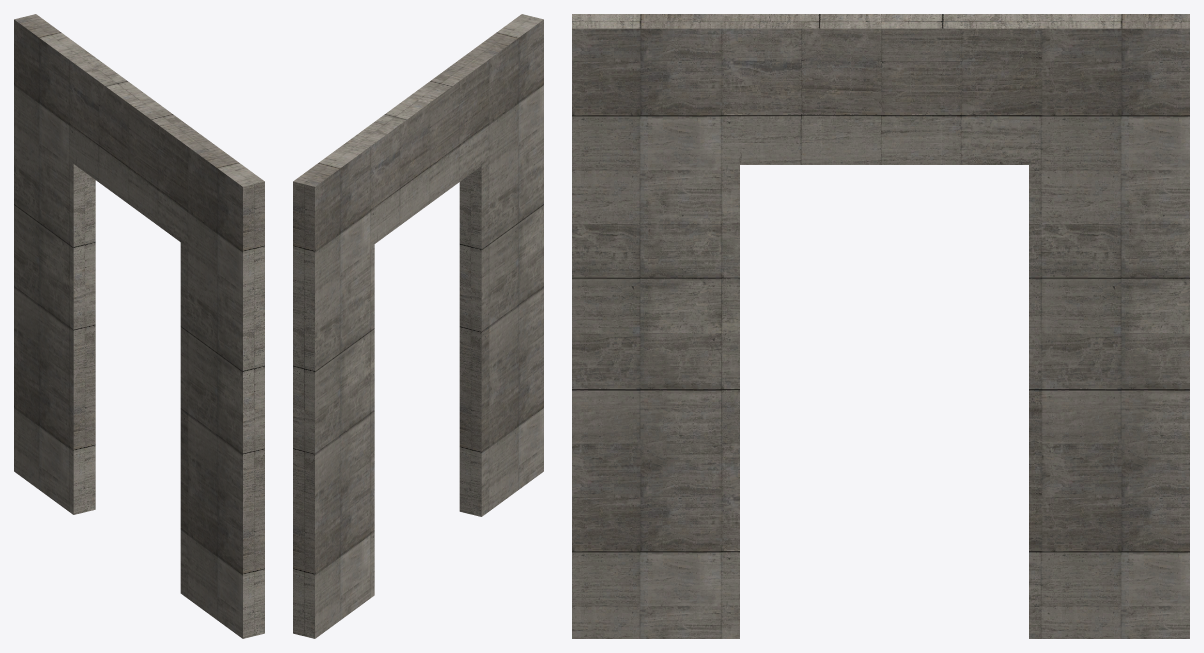
Rendered from soupdoorwall040.glb.
3 views of the same model, side by side, from view 1: azimuth 30°, elevation 25°; view 2: azimuth 150°, elevation 25°; view 3: azimuth 270°, elevation 25° (orthographic). The views are drawn at different scales.
Visible parts, largest first — view 1: soupdoorwall040_high_1; view 2: soupdoorwall040_high_1; view 3: soupdoorwall040_high_1.
Boxes of the visible parts, <box> form: soupdoorwall040_high_1: <box>14,14,264,638</box>; soupdoorwall040_high_1: <box>293,14,543,638</box>; soupdoorwall040_high_1: <box>572,14,1189,638</box>.
Size of the model in its own units: 0.1504 by 2.95 by 2.7.
Materials: 1 (1 with a texture image).
